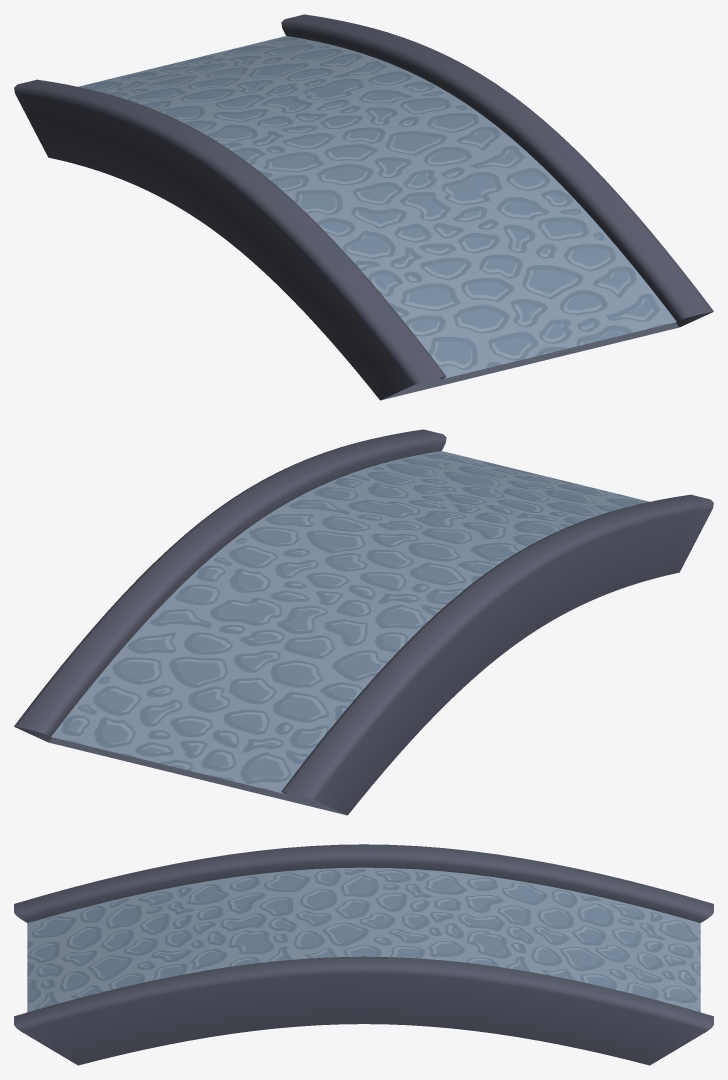
Rendered from Bridge00.fbx.
The picture shows the model from 3 angles, top to bottom: view 1: azimuth 30°, elevation 25°; view 2: azimuth 150°, elevation 25°; view 3: azimuth 270°, elevation 25°; orthographic projection. The views are drawn at different scales.
Parts seen in each view (by area): view 1: bridge00; view 2: bridge00; view 3: bridge00.
Part boxes in pixels (x1=…): bridge00: x1=14, y1=14, x2=713, y2=400; bridge00: x1=14, y1=429, x2=713, y2=815; bridge00: x1=14, y1=844, x2=713, y2=1065.
Size of the model in its own units: 1.27 by 0.4604 by 2.99.
